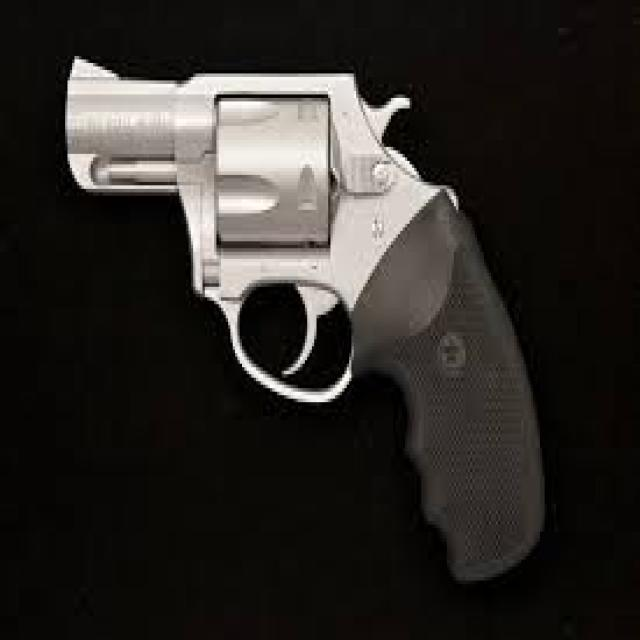Gun: (32, 30, 566, 584)
